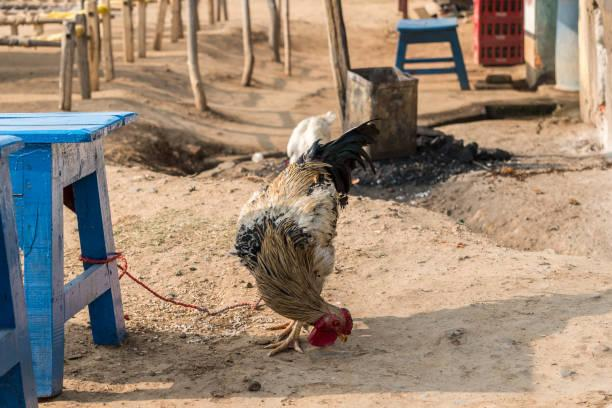AbNormal: (234, 106, 387, 359)
